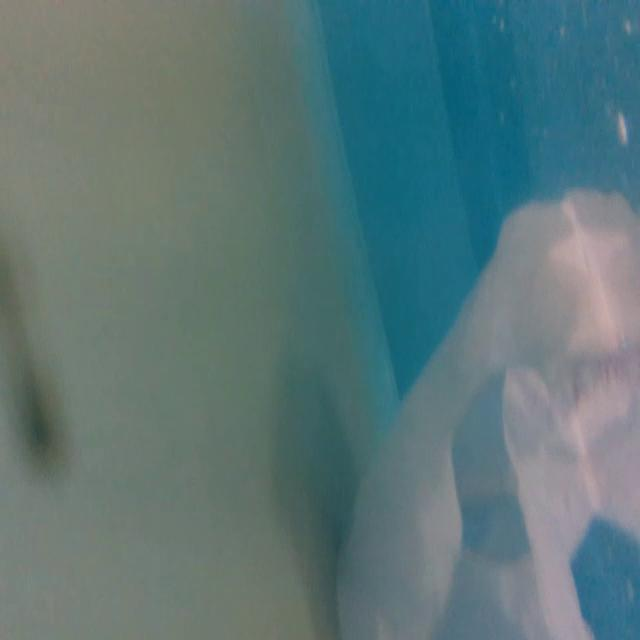plastic bags: (332, 176, 640, 640)
